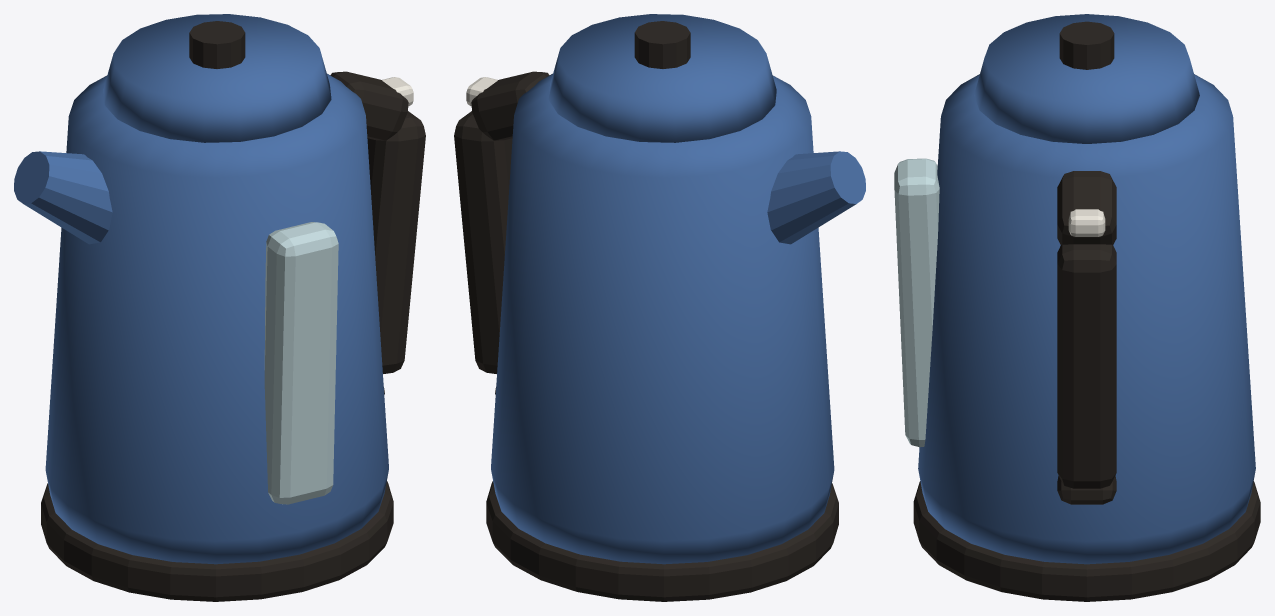
Rendered from hh_cat_office_kettle.glb.
3 views of the same model, side by side, from view 1: azimuth 30°, elevation 25°; view 2: azimuth 150°, elevation 25°; view 3: azimuth 270°, elevation 25° (orthographic).
Visible parts, largest first — view 1: kettle_body, kettle_lid, water_window, power_base, kettle_handle.001, spout, kettle_handle, lid_knob; view 2: kettle_body, kettle_lid, power_base, kettle_handle.001, spout, kettle_handle, lid_knob; view 3: kettle_body, kettle_lid, kettle_handle.001, power_base, water_window, kettle_handle, lid_knob, kettle_handle.002, kettle_switch.
Part boxes in pixels (x1=…): kettle_body: x1=45, y1=73, x2=388, y2=564; kettle_lid: x1=103, y1=14, x2=331, y2=142; water_window: x1=264, y1=222, x2=338, y2=504; power_base: x1=41, y1=481, x2=393, y2=601; kettle_handle.001: x1=367, y1=111, x2=425, y2=373; spout: x1=14, y1=151, x2=112, y2=244; kettle_handle: x1=330, y1=71, x2=408, y2=140; lid_knob: x1=189, y1=21, x2=245, y2=68; kettle_body: x1=491, y1=73, x2=834, y2=564; kettle_lid: x1=548, y1=14, x2=776, y2=142; power_base: x1=486, y1=481, x2=838, y2=601; kettle_handle.001: x1=454, y1=111, x2=512, y2=373; spout: x1=767, y1=151, x2=865, y2=244; kettle_handle: x1=471, y1=71, x2=549, y2=140; lid_knob: x1=634, y1=21, x2=690, y2=68; kettle_body: x1=918, y1=74, x2=1255, y2=564; kettle_lid: x1=974, y1=14, x2=1199, y2=143; kettle_handle.001: x1=1057, y1=244, x2=1116, y2=488; power_base: x1=913, y1=481, x2=1260, y2=601; water_window: x1=894, y1=158, x2=939, y2=447; kettle_handle: x1=1057, y1=171, x2=1116, y2=244; lid_knob: x1=1059, y1=21, x2=1114, y2=69; kettle_handle.002: x1=1057, y1=475, x2=1116, y2=504; kettle_switch: x1=1068, y1=209, x2=1105, y2=236.
Bounding box in the file's own units: 0.2 × 0.24 × 0.16.
